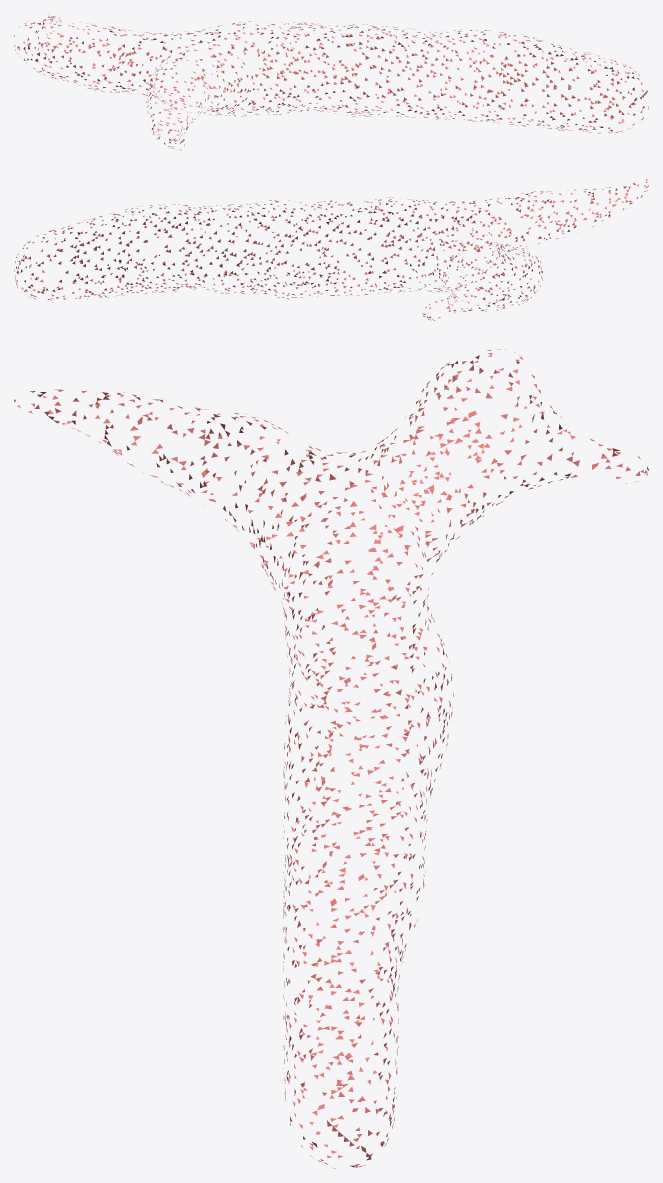
File: morph_000.glb
3 views of the same model, one above another, from view 1: azimuth 30°, elevation 25°; view 2: azimuth 150°, elevation 25°; view 3: azimuth 270°, elevation 25° (orthographic). The views are drawn at different scales.
Bounding box in the file's own units: 120 × 40.58 × 65.2.
